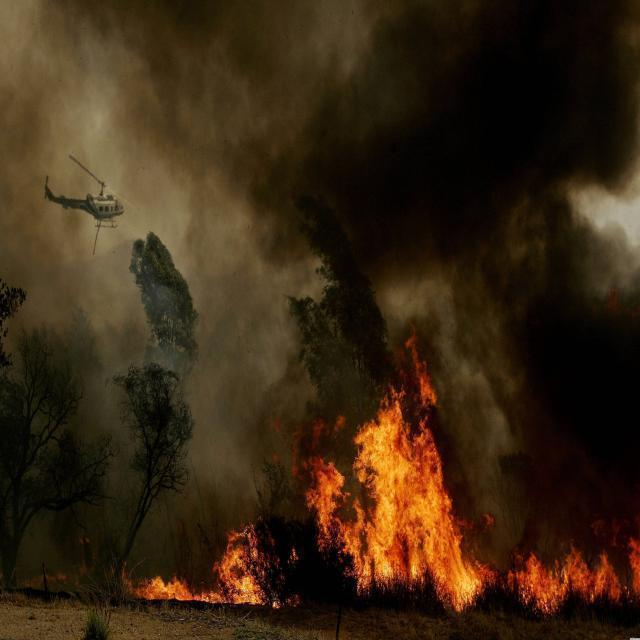Fire: (349, 400, 500, 608), (129, 524, 271, 613), (292, 450, 353, 559), (508, 555, 565, 612), (569, 551, 623, 603), (630, 537, 640, 595)
Smoke: (257, 52, 619, 274), (515, 3, 639, 311)
